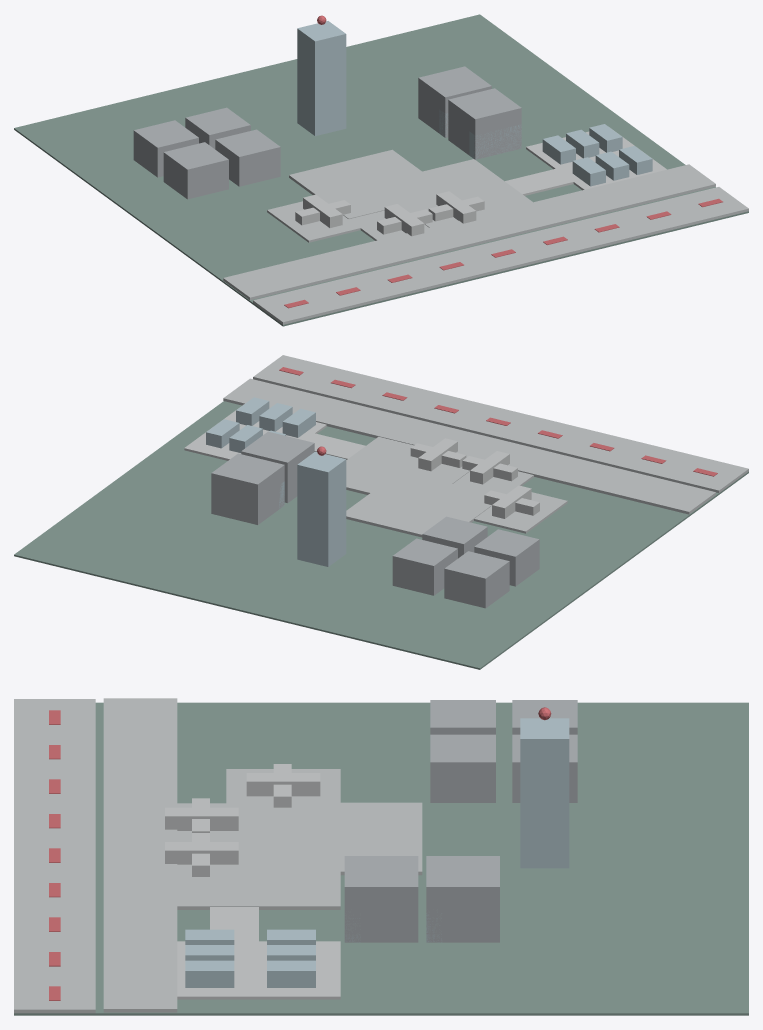
The model's file is stage_16.glb.
The picture shows the model from 3 angles, top to bottom: view 1: azimuth 30°, elevation 25°; view 2: azimuth 150°, elevation 25°; view 3: azimuth 270°, elevation 25°; orthographic projection. The views are drawn at different scales.
Visible parts, largest first — view 1: geometry_0; view 2: geometry_0; view 3: geometry_0.
Part boxes in pixels (left/top/right/bottom): geometry_0: left=14, top=14, right=748, bottom=326; geometry_0: left=14, top=355, right=748, bottom=669; geometry_0: left=14, top=698, right=748, bottom=1015.
Bounding box in the file's own units: 9 × 2.06 × 9.
